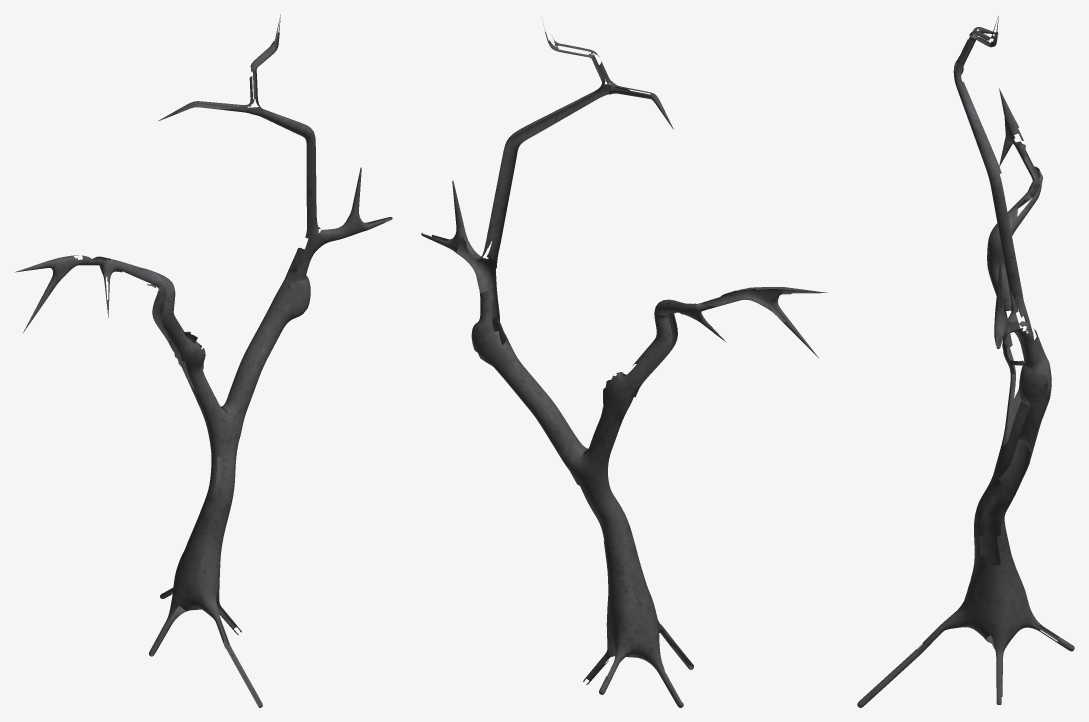
File: tree_05.fbx
3 renders of one model, left to right at view 1: azimuth 30°, elevation 25°; view 2: azimuth 150°, elevation 25°; view 3: azimuth 270°, elevation 25°, orthographic. The views are drawn at different scales.
Parts seen in each view (by area): view 1: tree_05; view 2: tree_05; view 3: tree_05.
Part boxes in pixels (x1,y1,x2,y2): tree_05: (15,14,392,707); tree_05: (421,23,827,707); tree_05: (857,16,1074,707).
Size of the model in its own units: 578 by 924 by 246.
